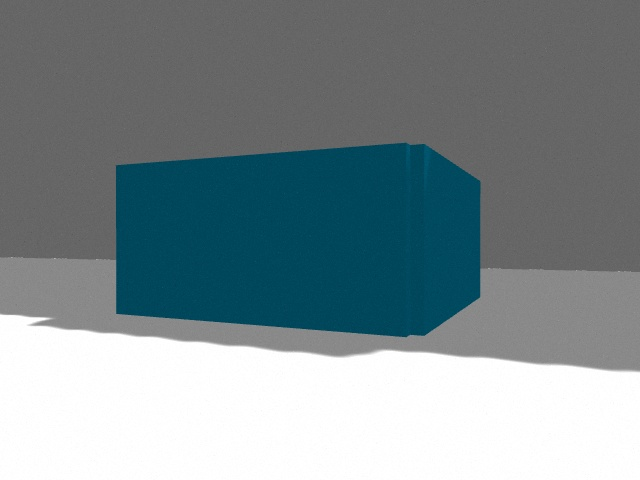blue_drop_zone: (116, 143, 481, 337)
